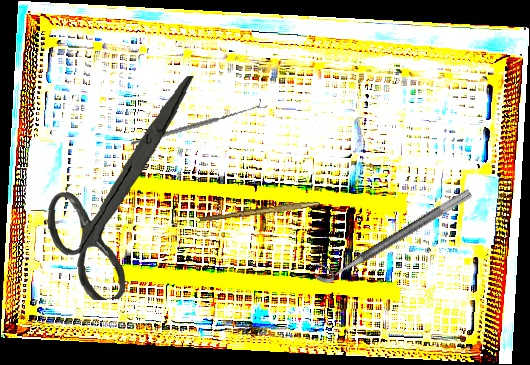Fixation Ring: (308, 175, 474, 289)
Hook Surgical: (130, 71, 262, 173)
Iris Scissors: (40, 75, 207, 303)
Scalpel Handle: (199, 197, 320, 225)
